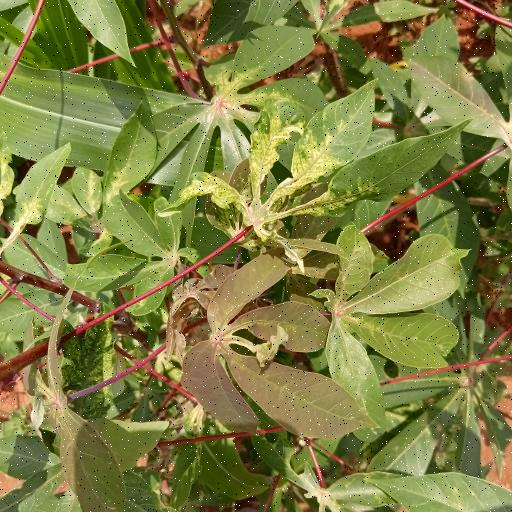Cassava_Brown_Leaf_Spot: (179, 102, 448, 244), (139, 25, 322, 174)
